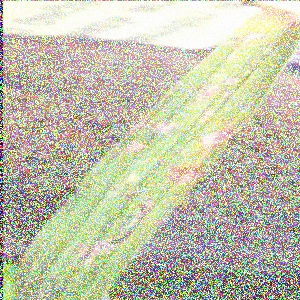Brown_Spot: (65, 192, 163, 267), (115, 105, 190, 141), (191, 116, 238, 158), (161, 153, 206, 184), (123, 134, 161, 159), (239, 21, 271, 49), (195, 95, 222, 125), (211, 87, 239, 108), (220, 70, 244, 90), (221, 44, 244, 61)
